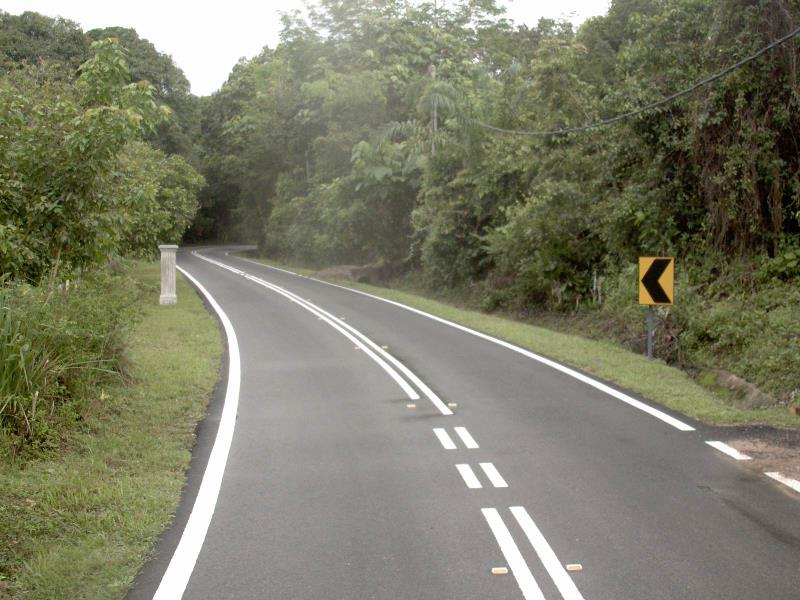traffic_sign: (628, 247, 683, 316)
